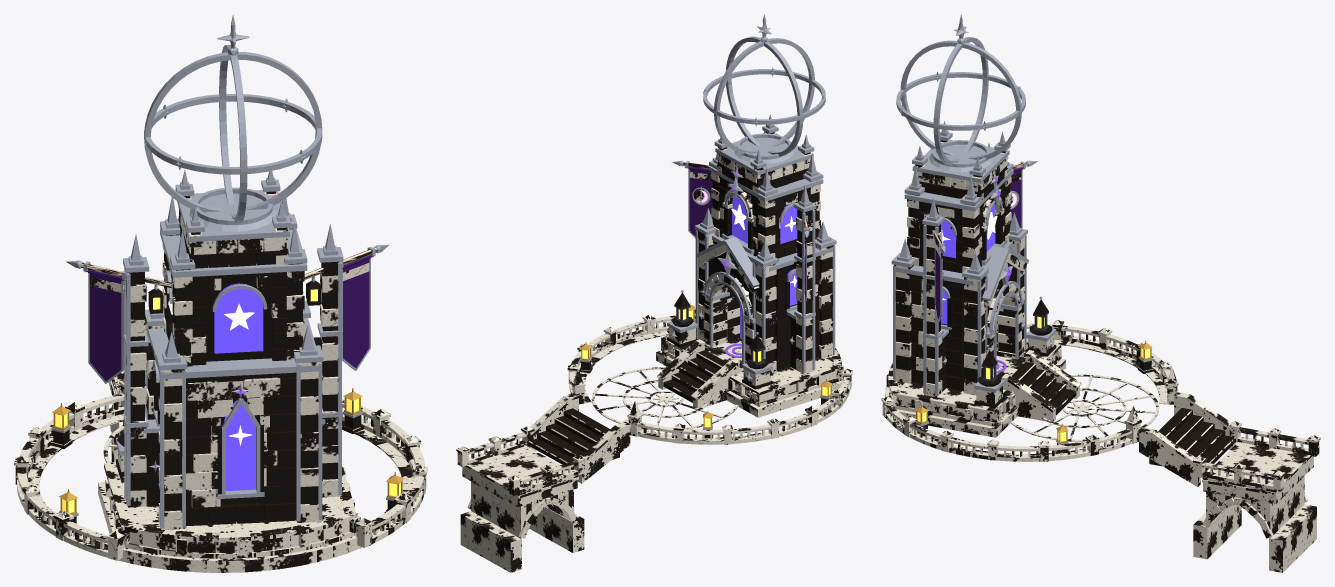
The model's file is ILHA3_06_SUMMON_4ec5f0.fbx.
3 views of the same model, side by side, from view 1: azimuth 30°, elevation 25°; view 2: azimuth 150°, elevation 25°; view 3: azimuth 270°, elevation 25° (orthographic). The views are drawn at different scales.
Visible parts, largest first — view 1: SG_Sum_Tower_Silver__Metal_SG_Silver, SG_Sum_Tower_Stone__Stone_SG_Castle, SG_Sum_Tower_Stone__Stone_SG_Block, SG_Sum_Sphere_Frame__Metal_SG_Silver, SG_Sum_Tower_Banners__Cloth_SG_Purple, SG_Sum_Tower_Glow__SG_SumPortal_Glow, SG_Sum_Balustrade__Stone_SG_Trim, SG_Sum_Tower_Stone__Stone_SG_Floor, SG_Sum_Base__Stone_SG_Block_B, SG_Sum_BaseTrim__Stone_SG_Trim, SG_Sum_Base__Stone_SG_Floor, SG_Sum_Balustrade__Stone_SG_Block (+11 smaller); view 2: SG_Sum_Tower_Silver__Metal_SG_Silver, SG_Sum_Tower_Stone__Stone_SG_Castle, SG_Sum_Tower_Stone__Stone_SG_Block, SG_Sum_Bridge__Stone_SG_Block, SG_Sum_Sphere_Frame__Metal_SG_Silver, SG_Sum_Bridge__Stone_Paving_SG, SG_Sum_Balustrade__Stone_SG_Trim, SG_Sum_Balustrade__Stone_SG_Block, SG_Sum_Balustrade__Stone_SG_Block_B, SG_Sum_Base__Stone_Paving_SG, SG_Sum_Bridge__Stone_SG_Trim, SG_Sum_FloorInlay__Stone_SG_Floor (+9 smaller); view 3: SG_Sum_Tower_Silver__Metal_SG_Silver, SG_Sum_Tower_Stone__Stone_SG_Castle, SG_Sum_Tower_Stone__Stone_SG_Block, SG_Sum_Bridge__Stone_SG_Block, SG_Sum_Sphere_Frame__Metal_SG_Silver, SG_Sum_Bridge__Stone_Paving_SG, SG_Sum_Balustrade__Stone_SG_Trim, SG_Sum_Balustrade__Stone_SG_Block_B, SG_Sum_Balustrade__Stone_SG_Block, SG_Sum_Bridge__Stone_SG_Trim, SG_Sum_FloorInlay__Stone_SG_Floor, SG_Sum_Base__Stone_Paving_SG (+10 smaller).
Part boxes in pixels (x1,y1,x2,y2): SG_Sum_Tower_Silver__Metal_SG_Silver: (66, 169, 389, 528); SG_Sum_Tower_Stone__Stone_SG_Castle: (127, 191, 339, 526); SG_Sum_Tower_Stone__Stone_SG_Block: (118, 191, 340, 529); SG_Sum_Sphere_Frame__Metal_SG_Silver: (144, 14, 322, 223); SG_Sum_Tower_Banners__Cloth_SG_Purple: (88, 255, 371, 381); SG_Sum_Tower_Glow__SG_SumPortal_Glow: (214, 283, 263, 491); SG_Sum_Balustrade__Stone_SG_Trim: (14, 370, 427, 543); SG_Sum_Tower_Stone__Stone_SG_Floor: (116, 240, 322, 522); SG_Sum_Base__Stone_SG_Block_B: (105, 479, 361, 572); SG_Sum_BaseTrim__Stone_SG_Trim: (104, 462, 357, 541); SG_Sum_Base__Stone_SG_Floor: (105, 476, 356, 558); SG_Sum_Balustrade__Stone_SG_Block: (15, 376, 426, 557); SG_Sum_Tower_Silver__Metal_SG_Silver: (667, 114, 836, 381); SG_Sum_Tower_Stone__Stone_SG_Castle: (674, 132, 832, 370); SG_Sum_Tower_Stone__Stone_SG_Block: (669, 133, 834, 385); SG_Sum_Bridge__Stone_SG_Block: (460, 398, 630, 572); SG_Sum_Sphere_Frame__Metal_SG_Silver: (703, 14, 825, 156); SG_Sum_Bridge__Stone_Paving_SG: (465, 408, 619, 495); SG_Sum_Balustrade__Stone_SG_Trim: (456, 309, 852, 483); SG_Sum_Balustrade__Stone_SG_Block: (520, 320, 850, 492); SG_Sum_Balustrade__Stone_SG_Block_B: (457, 316, 851, 495); SG_Sum_Base__Stone_Paving_SG: (663, 338, 743, 402); SG_Sum_Bridge__Stone_SG_Trim: (467, 393, 630, 538); SG_Sum_FloorInlay__Stone_SG_Floor: (591, 367, 738, 430); SG_Sum_Tower_Silver__Metal_SG_Silver: (891, 121, 1056, 398); SG_Sum_Tower_Stone__Stone_SG_Castle: (896, 140, 1048, 391); SG_Sum_Tower_Stone__Stone_SG_Block: (894, 140, 1054, 404); SG_Sum_Bridge__Stone_SG_Block: (1139, 398, 1316, 572); SG_Sum_Sphere_Frame__Metal_SG_Silver: (896, 14, 1025, 165); SG_Sum_Bridge__Stone_Paving_SG: (1149, 408, 1311, 492); SG_Sum_Balustrade__Stone_SG_Trim: (881, 320, 1320, 479); SG_Sum_Balustrade__Stone_SG_Block_B: (882, 331, 1319, 491); SG_Sum_Balustrade__Stone_SG_Block: (890, 326, 1308, 477); SG_Sum_Bridge__Stone_SG_Trim: (1138, 392, 1307, 538); SG_Sum_FloorInlay__Stone_SG_Floor: (1010, 374, 1159, 441); SG_Sum_Base__Stone_Paving_SG: (996, 355, 1076, 415).
Bounding box in the file's own units: 45.58 × 77.6 × 64.2.
12 materials, 2 textured.
